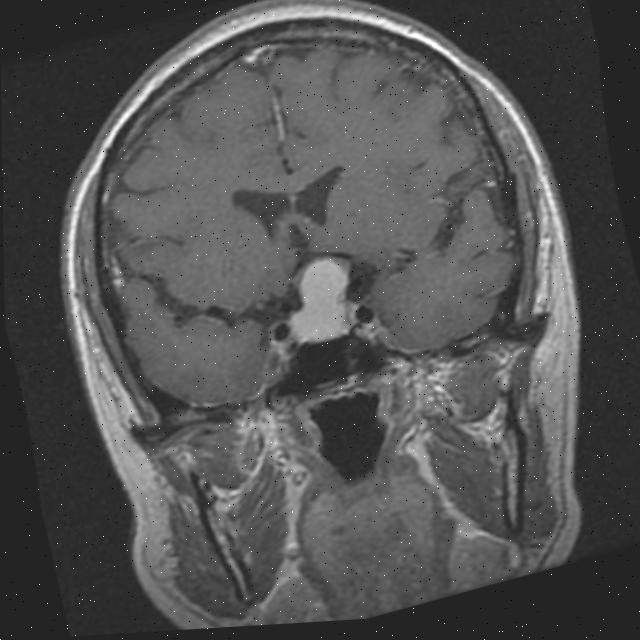Pituitary: (274, 249, 364, 350)
